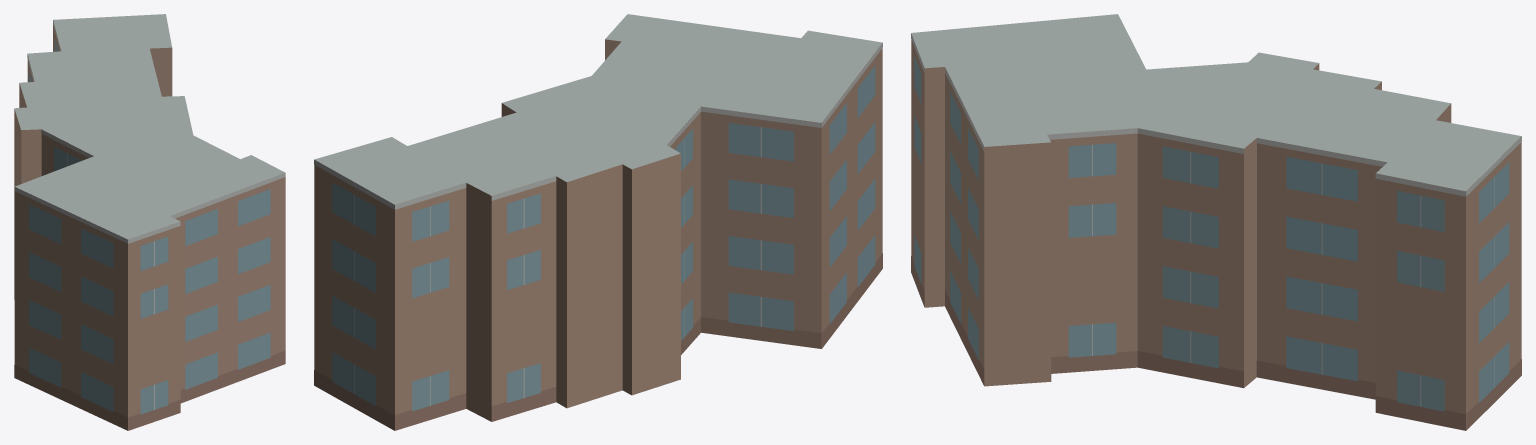
Rendered from survey-upis-32751783.glb.
The picture shows the model from 3 angles, left to right: view 1: azimuth 30°, elevation 25°; view 2: azimuth 150°, elevation 25°; view 3: azimuth 270°, elevation 25°; orthographic projection. The views are drawn at different scales.
Visible parts, largest first — view 1: survey-upis-32751783.tmp; view 2: survey-upis-32751783.tmp; view 3: survey-upis-32751783.tmp.
Boxes of the visible parts, left/top/right/bottom form: survey-upis-32751783.tmp: left=14, top=14, right=285, bottom=430; survey-upis-32751783.tmp: left=314, top=14, right=882, bottom=430; survey-upis-32751783.tmp: left=911, top=14, right=1521, bottom=430.
Size of the model in its own units: 17.33 by 10.9 by 25.2.
